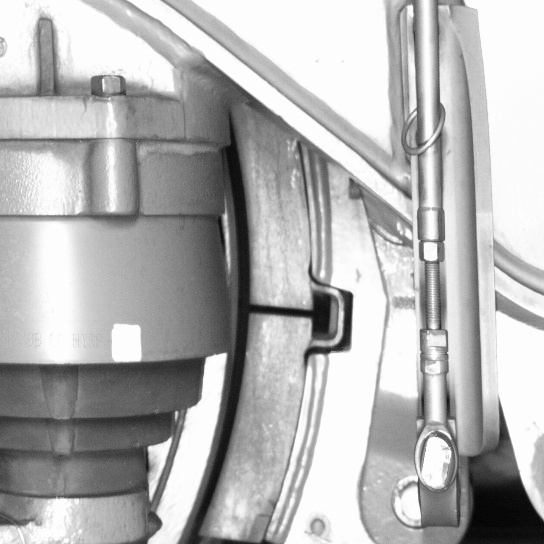KnifeSwitch: (173, 143, 325, 541)
